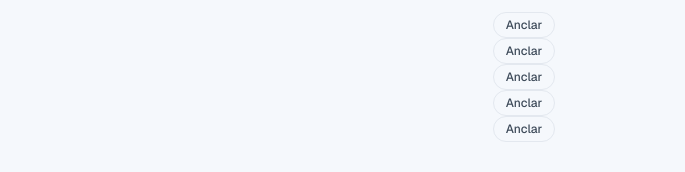
Test case: AnchorButton (task 5.4) › disables Anclar and shows the exact limit copy once 4 systems are anchored via AnchorButton
Step 1. Click the 1st button "Anclar" → (524, 25), box [493, 12, 555, 38]
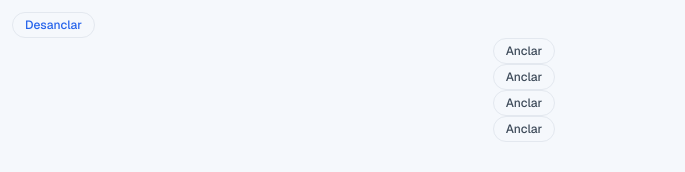
Step 2. Click the 1st button "Anclar" → (524, 51), box [493, 38, 555, 64]
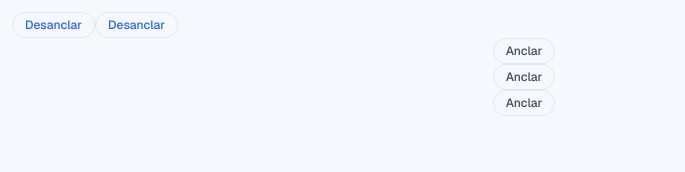
Step 3. Click the 1st button "Anclar" → (524, 51), box [493, 38, 555, 64]
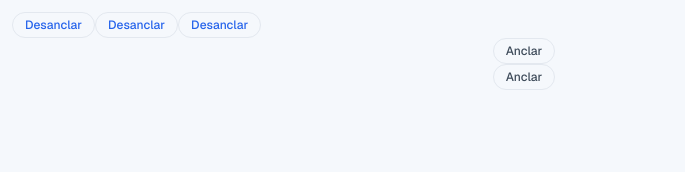
Step 4. Click the 1st button "Anclar" → (524, 51), box [493, 38, 555, 64]
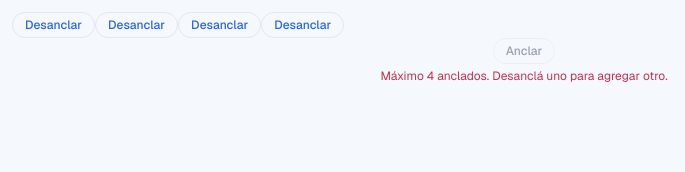
Expected: the text "Máximo 4 anclados. Desanclá uno para agregar otro." is shown, [380, 68, 668, 84]
